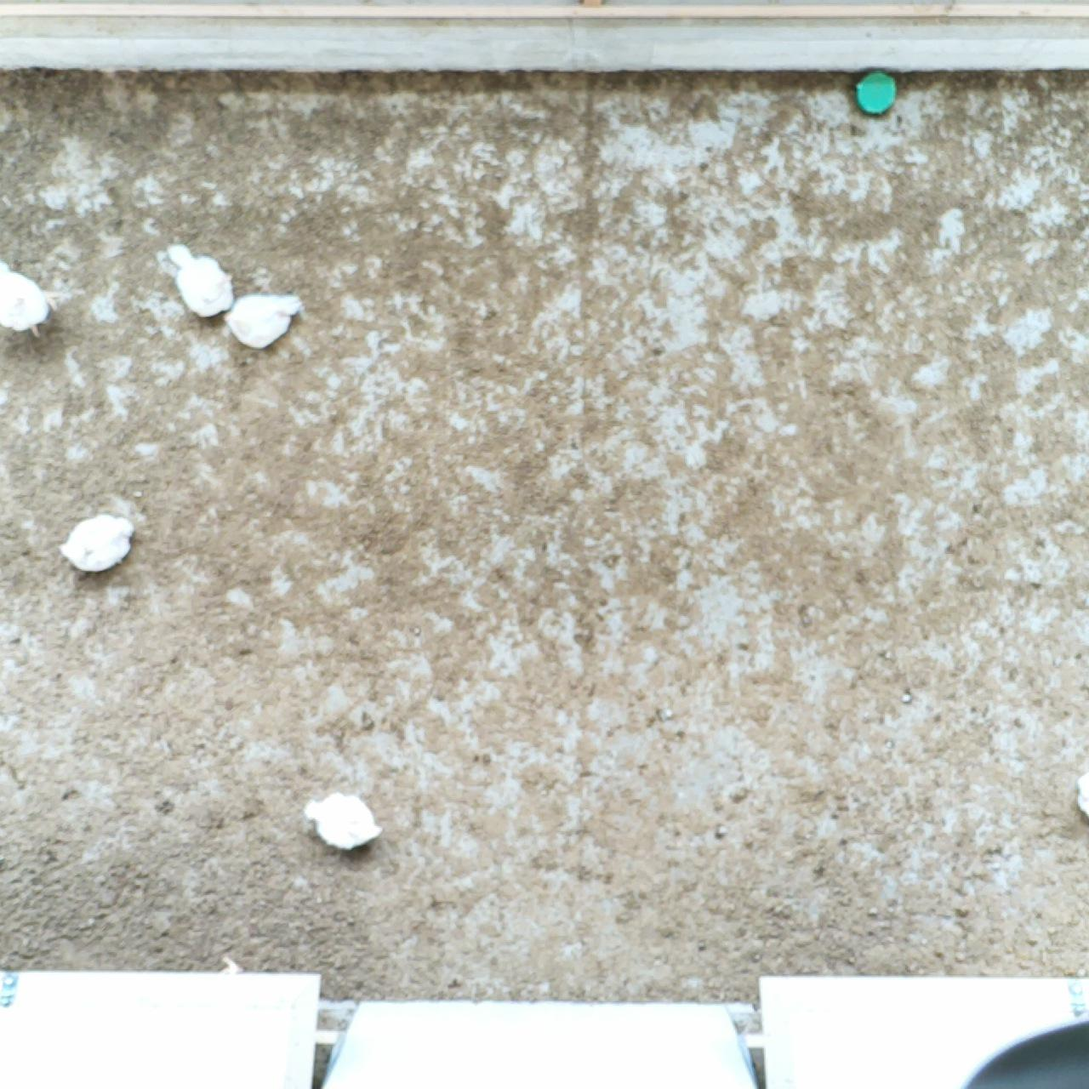chicken: (56, 510, 139, 579), (299, 785, 383, 852), (0, 255, 61, 346), (218, 291, 306, 353), (168, 238, 236, 317)
